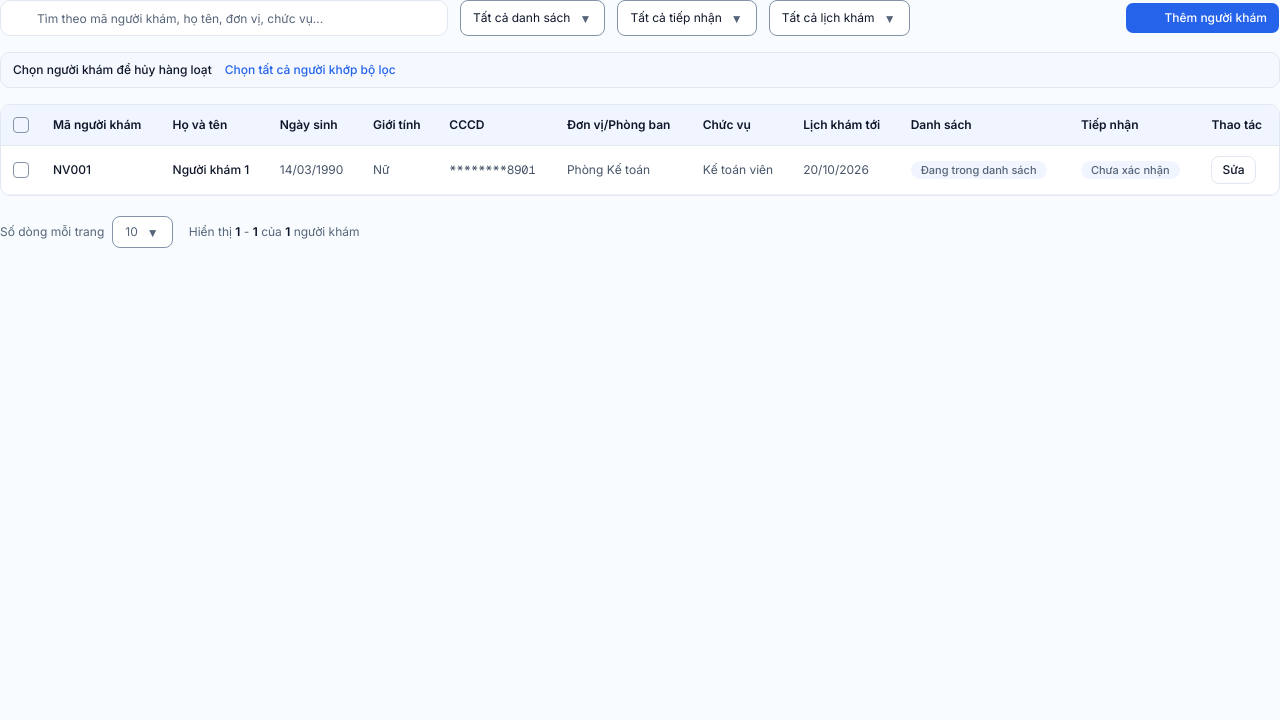
Scenario: manual Participant actions are shown only when allowed › skips a prepared Participant in the cancel dialog with the reason, but still allows Edit
This screenshot has width=1280, height=720.
Check: the button with aria-label "Sửa người khám Người khám 1" is enabled, box x1=1211 y1=156 x2=1256 y2=184
Click the checkbox named "Chọn Người khám 1": (21, 170) x1=13 y1=162 x2=29 y2=178
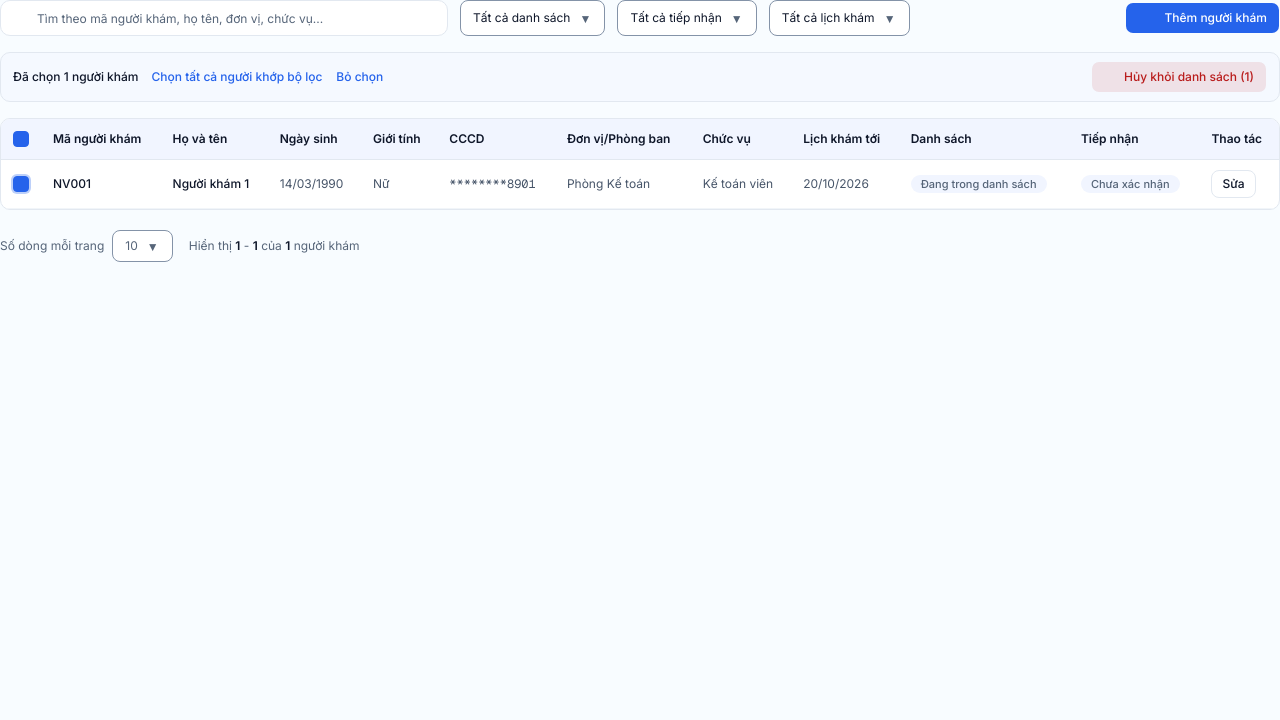
Click the button "Hủy khỏi danh sách (1)": (1179, 77) x1=1091 y1=61 x2=1267 y2=93
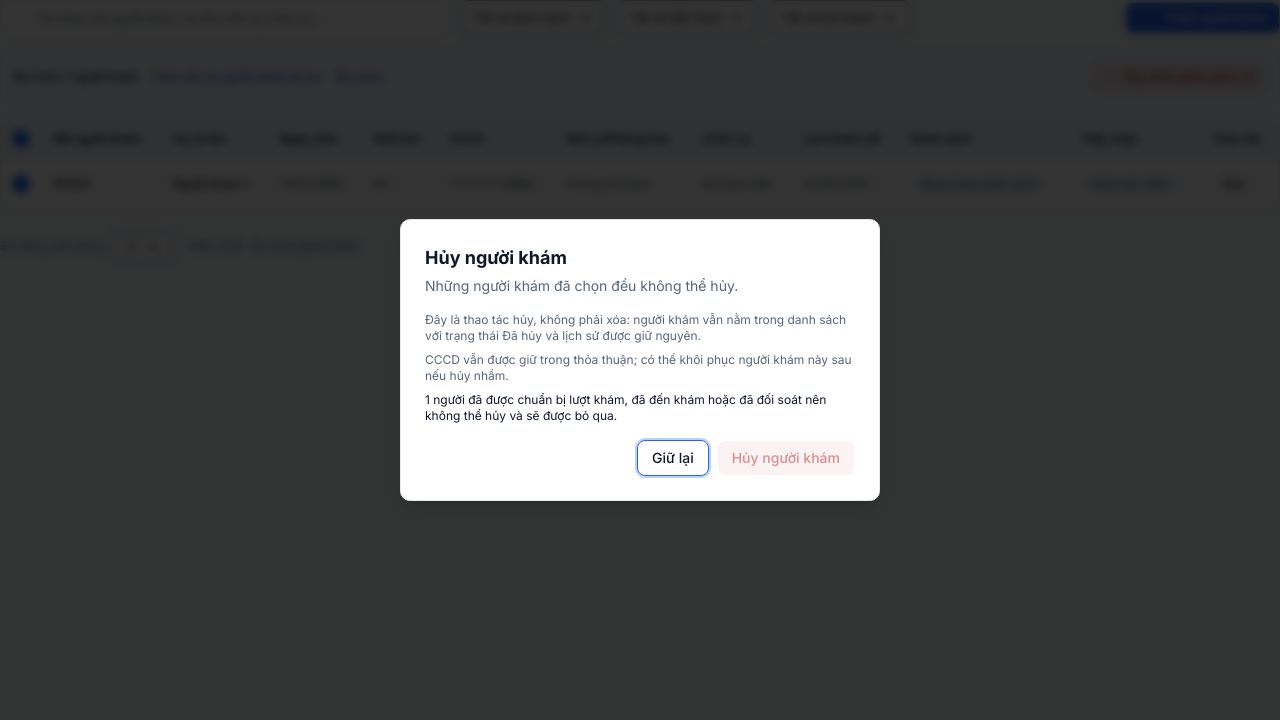
Check: the text "đã được chuẩn bị lượt khám, đã đến khám hoặc đã đối soát nên không thể hủy" is shown, box x1=425 y1=392 x2=826 y2=423
Check: the button "Hủy người khám" is disabled, box x1=717 y1=440 x2=855 y2=476
